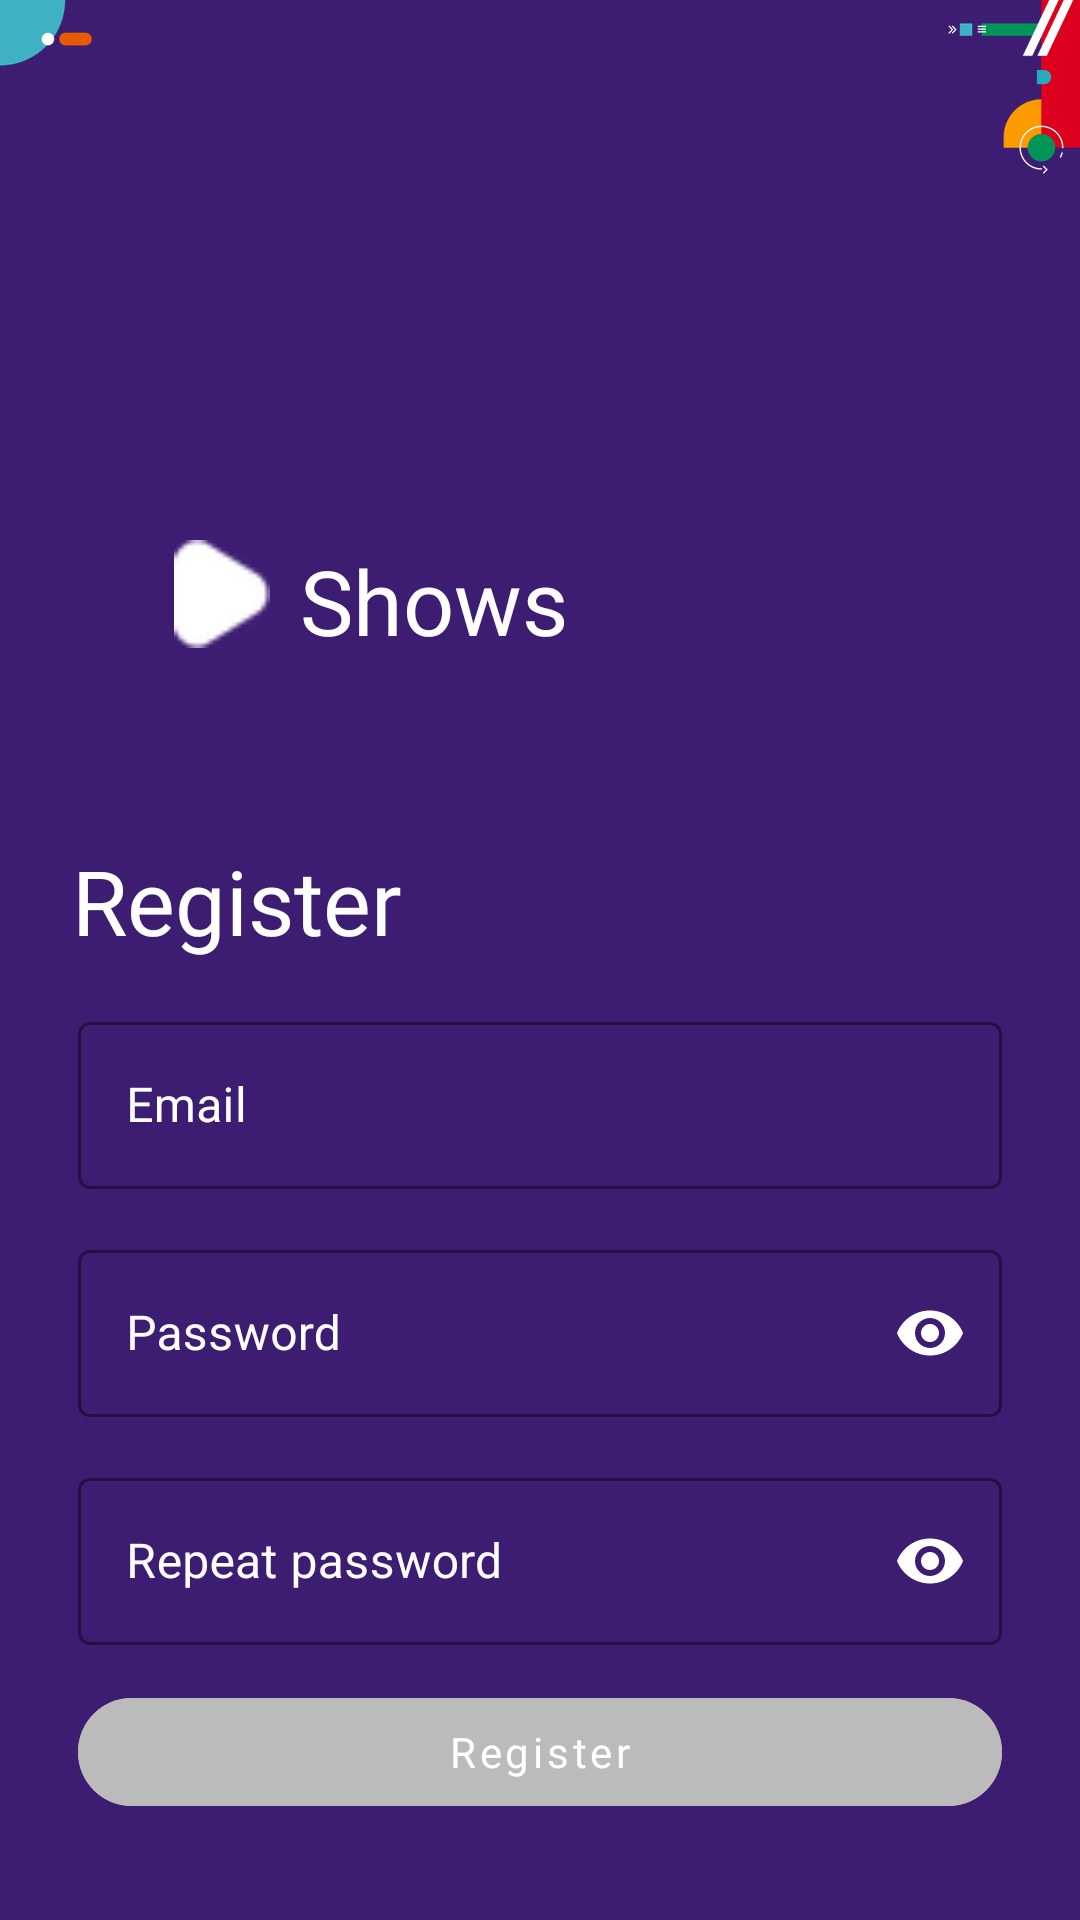

Point at icon controls on the screen. Image size 1080x1920, points as (x,y).
triangle: (222,594)
